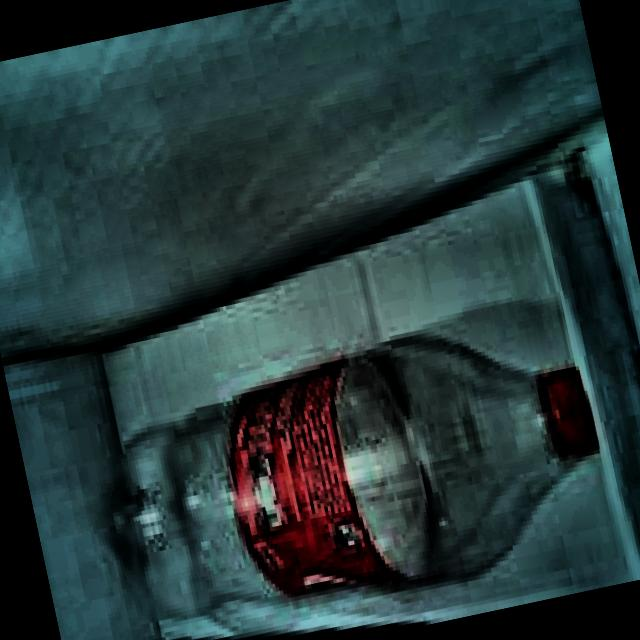plastic bottle: (111, 357, 599, 621)
